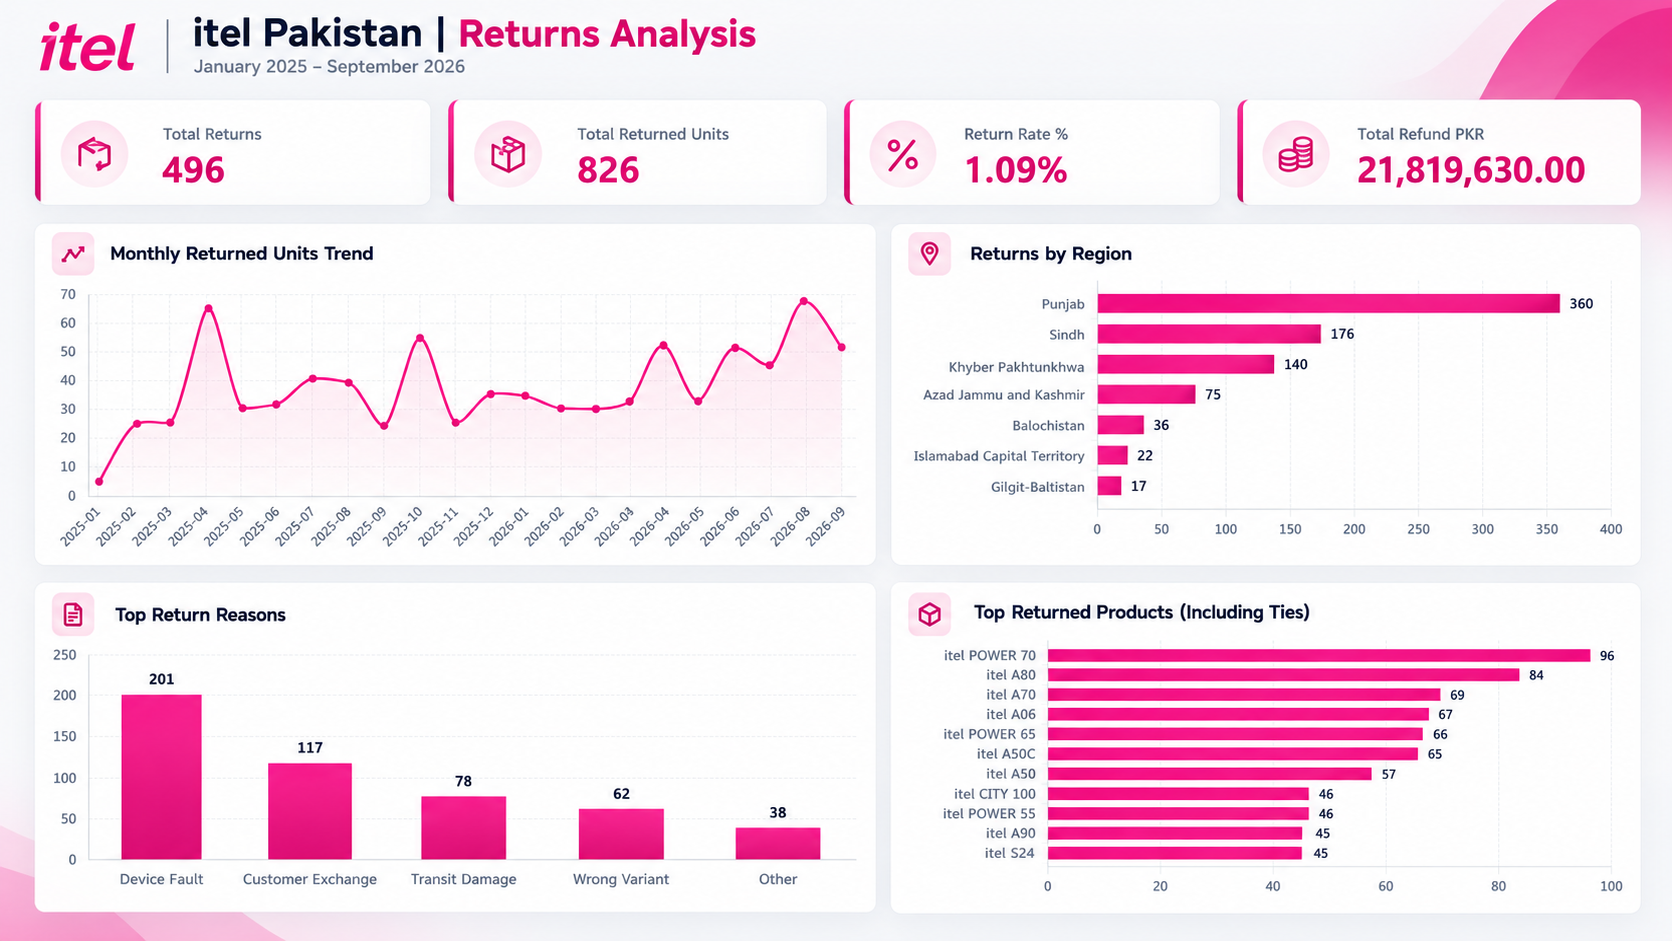

The dashboard page shown, as its layout file describes it:
{"tool":"powerbi","page":{"name":"Returns Analysis.","canvas":[2500,2200],"ordinal":3},"visuals":[{"type":"cardVisual","fields":{"Data":["All_Measures.Total Returns"]},"box":[62.9,80,417.1,180],"z":0},{"type":"cardVisual","fields":{"Data":["All_Measures.Total Returned Units"]},"box":[502.9,80,440,180],"z":1},{"type":"cardVisual","fields":{"Data":["All_Measures.Total Refund PKR"]},"box":[1420,80,440,180],"z":2},{"type":"cardVisual","fields":{"Data":["All_Measures.Return Rate %"]},"box":[960,80,440,180],"z":3},{"type":"lineChart","title":"Monthly Returned Units Trend","fields":{"Category":["DimDate_Stage.YearMonth"],"Y":["All_Measures.Total Returned Units"]},"box":[61.5,311.5,1338.5,684.6],"z":4},{"type":"clusteredBarChart","title":"Top 10 Returned Products","fields":{"Category":["DimProducts_Stage.ModelName"],"Y":["All_Measures.Total Returned Units"]},"box":[1400,1034.6,1065.4,923.1],"z":5},{"type":"clusteredBarChart","title":"Returns by Region","fields":{"Category":["DimRegions_Stage.RegionName"],"Y":["All_Measures.Total Returned Units"]},"box":[1419.2,311.5,1042.3,684.6],"z":6},{"type":"columnChart","title":"Top Return Reasons","fields":{"Category":["FactReturns_Stage.ReturnReason"],"Y":["All_Measures.Total Returns"]},"box":[50,1034.6,1315.4,923.1],"z":7}]}

Visuals, with their boxes on the page's 2500x2200 design canvas (x1, y1, x2, y2). These are canvas units, not pixel positions in the 1672x941 screenshot, which may show the page scaled, cropped or inside an application window:
cardVisual - All_Measures.Total Returns: x1=63, y1=80, x2=480, y2=260
cardVisual - All_Measures.Total Returned Units: x1=503, y1=80, x2=943, y2=260
cardVisual - All_Measures.Total Refund PKR: x1=1420, y1=80, x2=1860, y2=260
cardVisual - All_Measures.Return Rate %: x1=960, y1=80, x2=1400, y2=260
"Monthly Returned Units Trend" lineChart: x1=62, y1=312, x2=1400, y2=996
"Top 10 Returned Products" clusteredBarChart: x1=1400, y1=1035, x2=2465, y2=1958
"Returns by Region" clusteredBarChart: x1=1419, y1=312, x2=2462, y2=996
"Top Return Reasons" columnChart: x1=50, y1=1035, x2=1365, y2=1958
